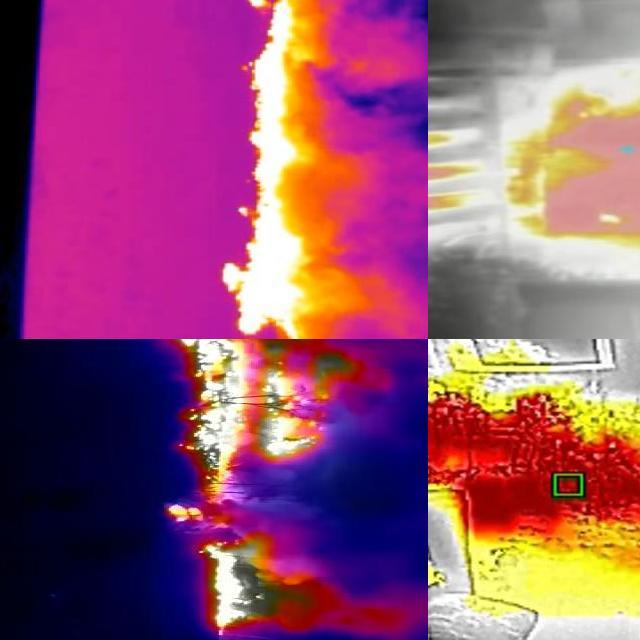fire: (429, 357, 640, 610), (219, 1, 361, 340), (507, 1, 640, 296), (162, 340, 363, 521), (191, 531, 341, 636)
